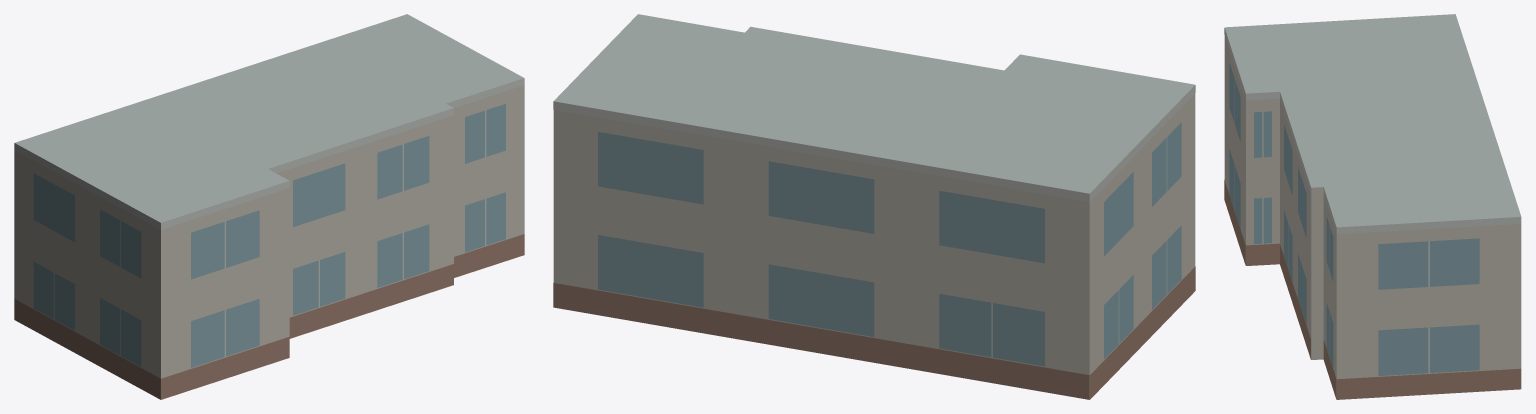
File: survey-upis-32813921.glb
3 views of the same model, side by side, from view 1: azimuth 30°, elevation 25°; view 2: azimuth 150°, elevation 25°; view 3: azimuth 270°, elevation 25° (orthographic). The views are drawn at different scales.
Parts seen in each view (by area): view 1: survey-upis-32813921.tmp; view 2: survey-upis-32813921.tmp; view 3: survey-upis-32813921.tmp.
Boxes of the visible parts, x1,y1,x2,y2 form: survey-upis-32813921.tmp: [14, 14, 524, 399]; survey-upis-32813921.tmp: [553, 14, 1195, 399]; survey-upis-32813921.tmp: [1224, 14, 1521, 399].
Bounding box in the file's own units: 16.21 × 6.1 × 9.53.
